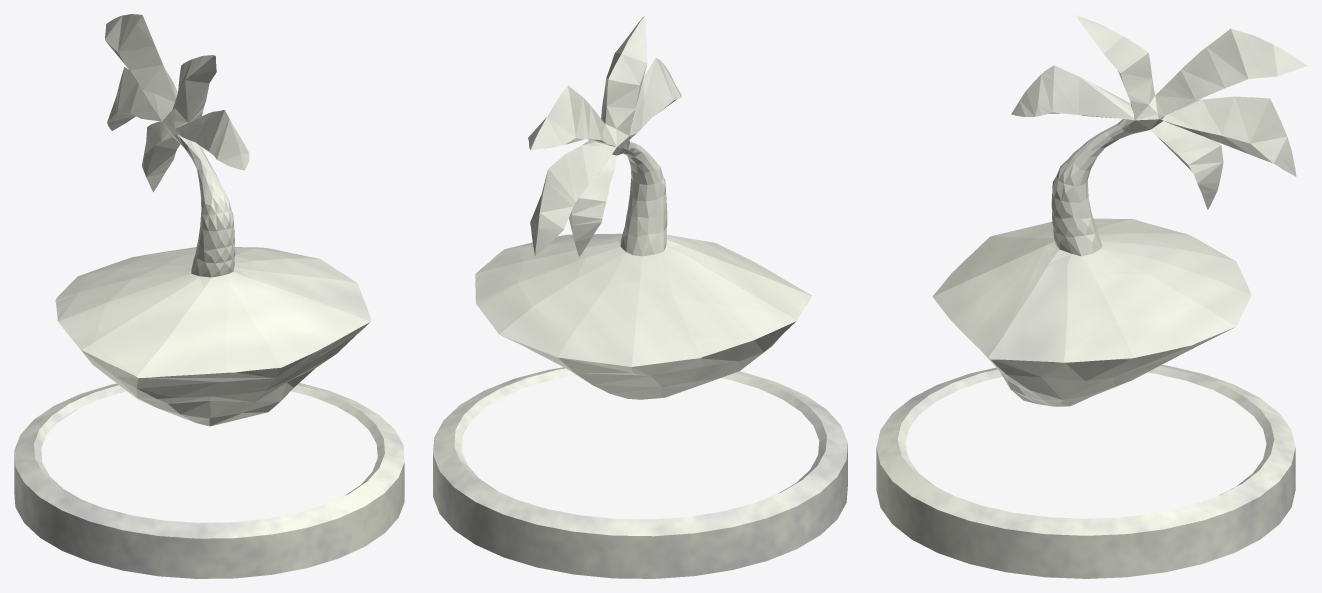
File: silverPalm.gltf
3 views of the same model, side by side, from view 1: azimuth 30°, elevation 25°; view 2: azimuth 150°, elevation 25°; view 3: azimuth 270°, elevation 25° (orthographic). The views are drawn at different scales.
Parts seen in each view (by area): view 1: Stand, Palm; view 2: Stand, Palm; view 3: Stand, Palm.
Part boxes in pixels (x1,y1,x2,y2): Stand: [14, 383, 404, 578]; Palm: [55, 14, 371, 426]; Stand: [433, 367, 847, 578]; Palm: [475, 15, 811, 399]; Stand: [876, 365, 1295, 578]; Palm: [932, 15, 1307, 406].
Size of the model in its own units: 0.1547 by 0.1974 by 0.1591.
1 material, 1 textured.
